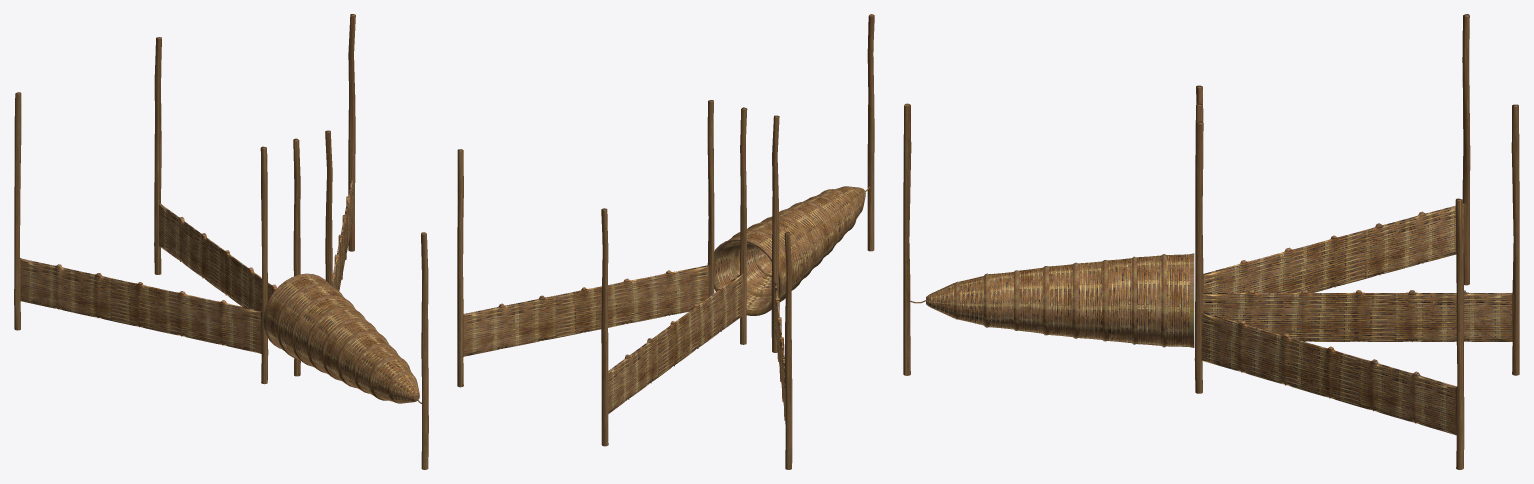
File: trapbasket.fbx
3 renders of one model, left to right at view 1: azimuth 30°, elevation 25°; view 2: azimuth 150°, elevation 25°; view 3: azimuth 270°, elevation 25°, orthographic. The views are drawn at different scales.
Parts seen in each view (by area): view 1: trapmesh; view 2: trapmesh; view 3: trapmesh.
Boxes of the visible parts, bbox=[...] form: trapmesh: bbox=[14, 14, 428, 469]; trapmesh: bbox=[457, 14, 874, 469]; trapmesh: bbox=[903, 14, 1519, 469].
Size of the model in its own units: 8.41 by 5.59 by 11.63.
7 materials, 7 textured.
